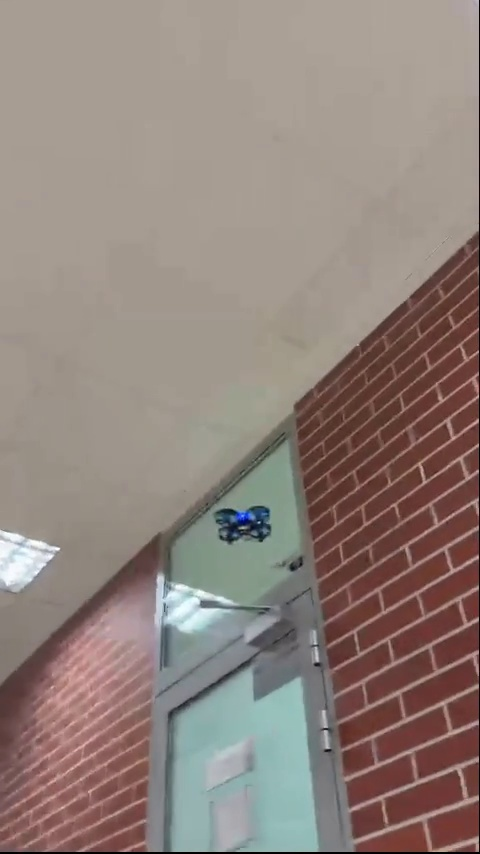drone: (216, 503, 276, 547)
